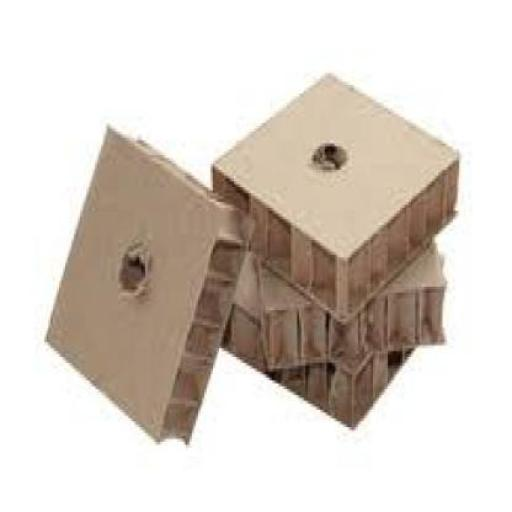cardboard: (42, 122, 245, 445), (210, 70, 458, 323), (217, 249, 417, 427), (245, 231, 444, 366)
